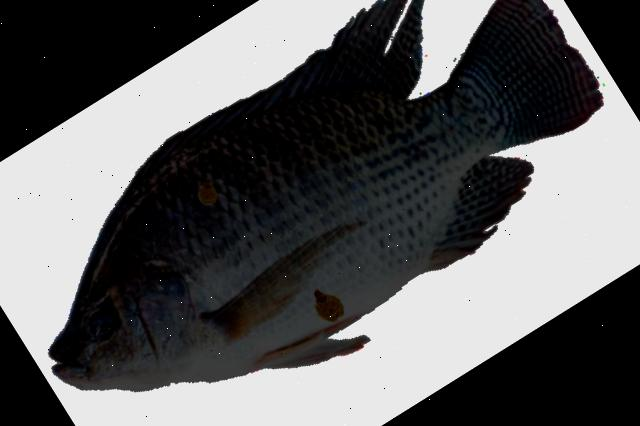Parasitic Disease: (50, 0, 601, 389), (50, 0, 601, 389)
